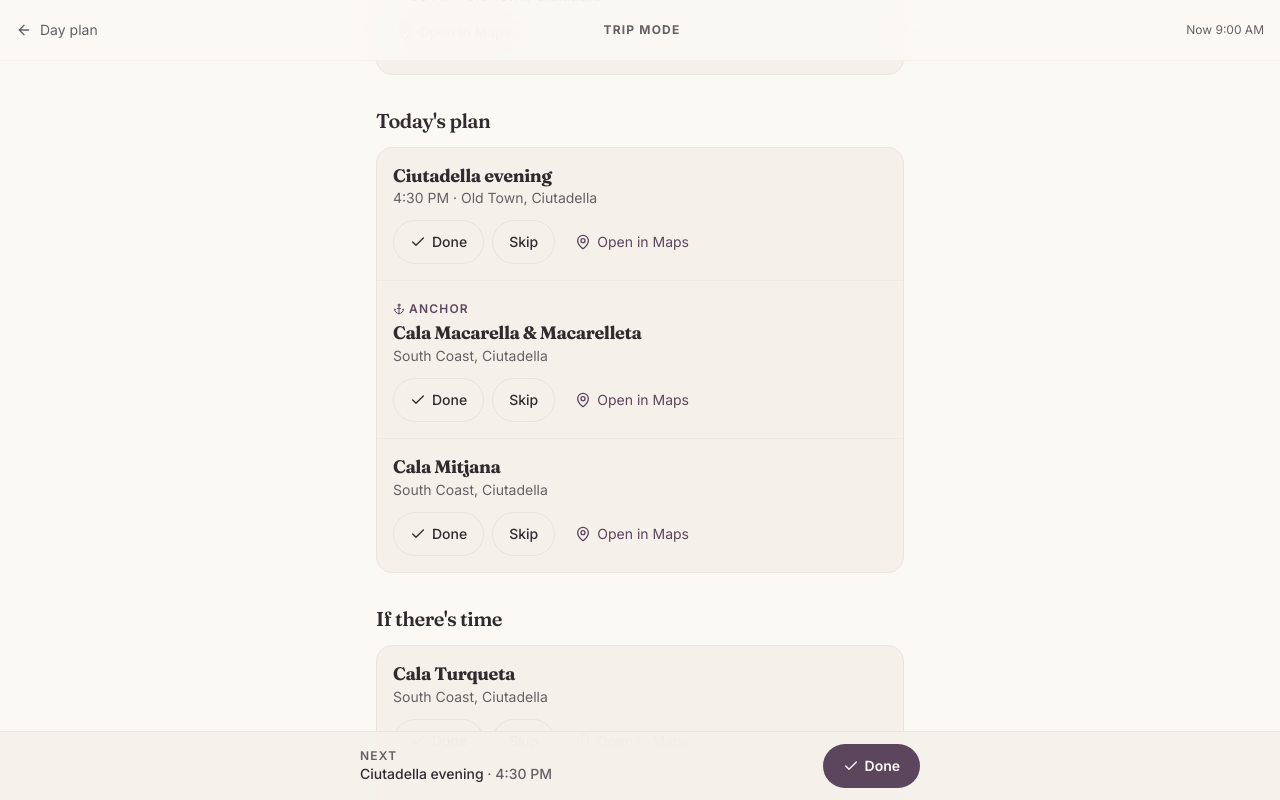
Scenario: Trip Mode › skipping a plan offers its backups; choosing one makes it Next without re-planning
(page scrolled)
Click the button with aria-label "Skip Cala Macarella & Macarelleta" at (524, 400), box [492,378,555,422]
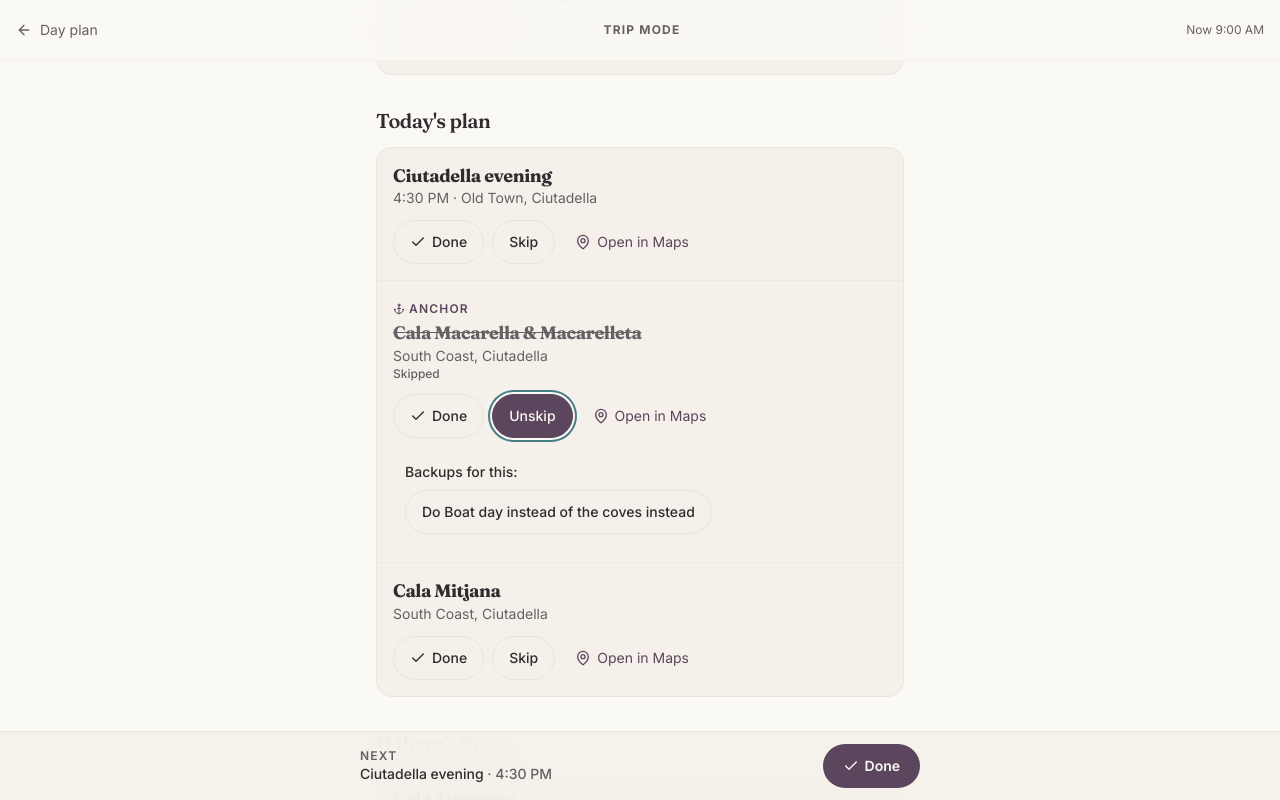
Check: the text "Backups for this:" is shown, box [405,463,518,480]
Click the button "Do Boat day instead of the coves instead" at (558, 512), box [405,490,712,534]
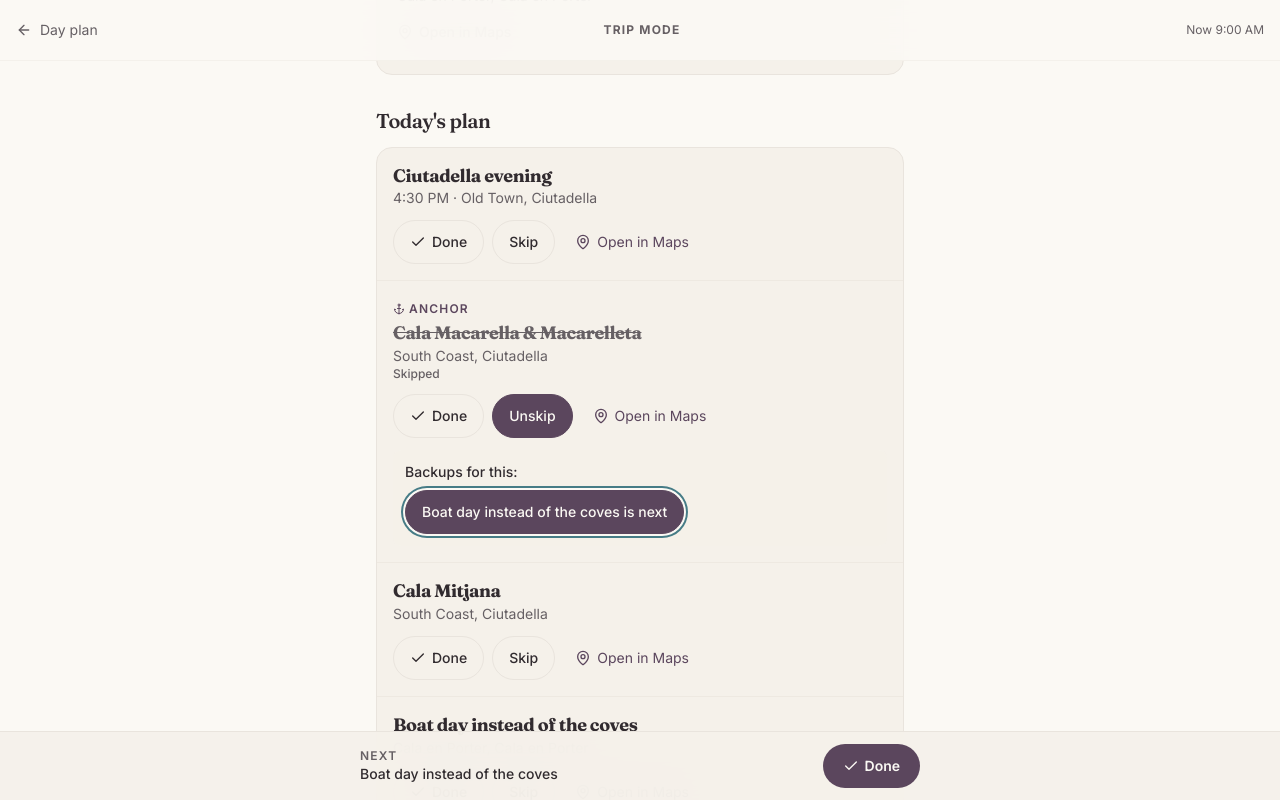
Check: the text "Boat day instead of the coves" is shown, box [360,764,558,784]
